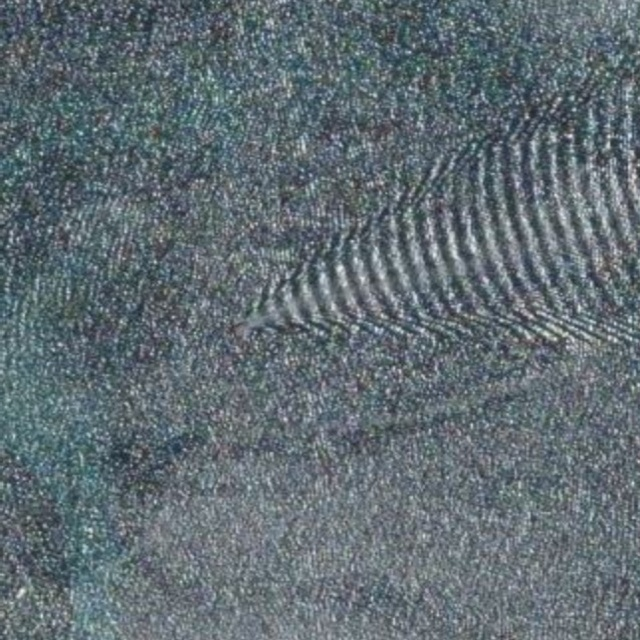wake: (216, 170, 504, 392)
